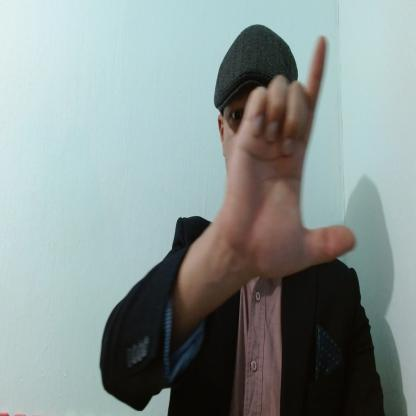L: (228, 35, 357, 281)
